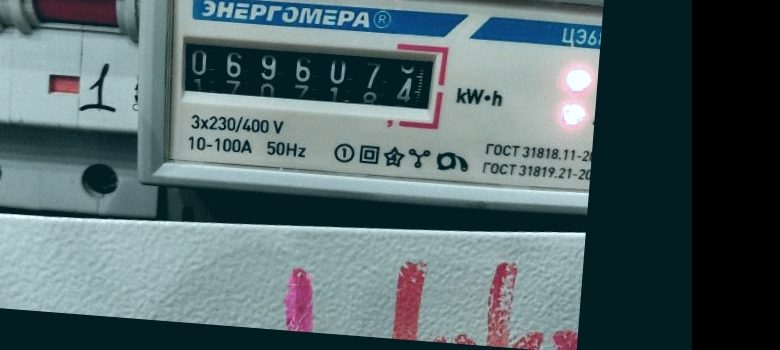0: (326, 54, 348, 86), (188, 47, 208, 76)
4: (394, 75, 412, 104)
6: (223, 48, 244, 78), (291, 54, 312, 84)
7: (362, 59, 381, 90)
9: (257, 52, 276, 81)
screen: (163, 18, 454, 129)
